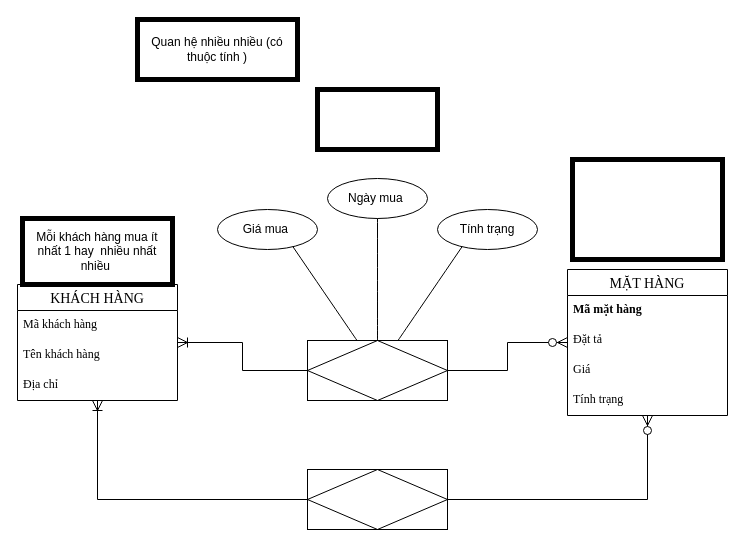
The diagram is 745 pixels wide and 547 high, and some of its shapes have lost their labels. The centre of each missing label's shape, as x and y in pixels:
"Bán" belongs at pixel 377 499.
"Mua" belongs at pixel 377 370.
"Mỗi mặt hàng có thể 0 có người mua hay nhiều người mua" belongs at pixel 647 209.
"Sơ đồ ERD" belongs at pixel 377 119.
